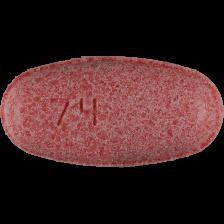54868-0018: (0, 0, 224, 224)
